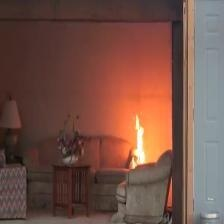fire: (128, 114, 157, 159)
